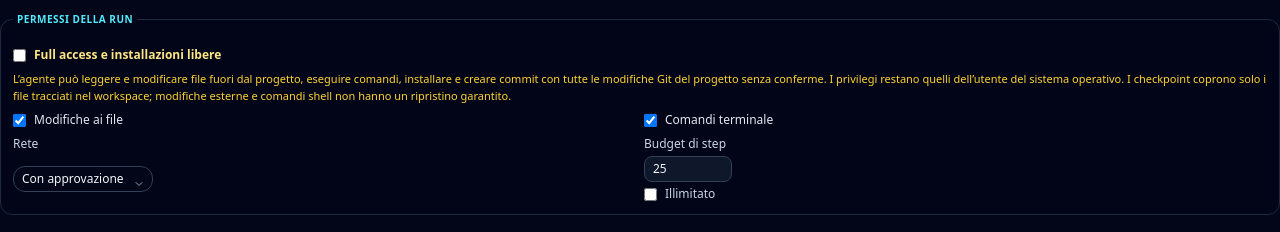
it: AgentCapabilityProfileControls › keeps Full access off by default and shows its restore limit when enabled
This screenshot has width=1280, height=232.
Click the checkbox labelled "Full access e installazioni libere". click: [20, 55]
box: [13,48,26,62]
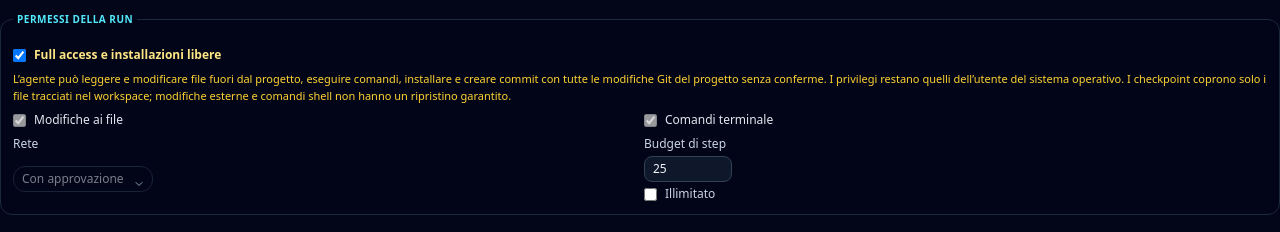
Expected: the text "checkpoint" is shown, [13,71,1266,102]
Expected: the checkbox labelled "Modifiche ai file" is disabled, [13,114,26,126]
